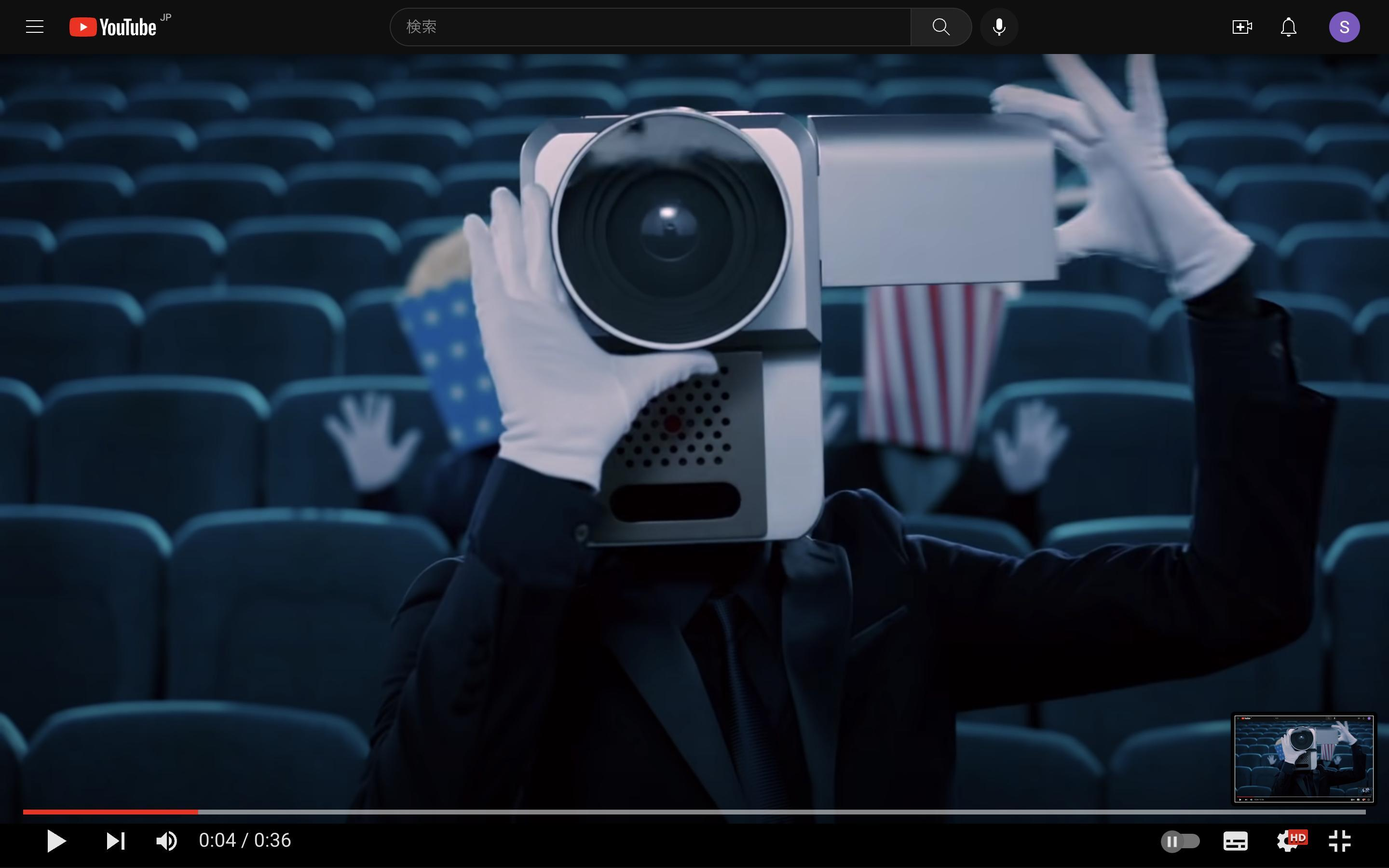no more kid: (517, 108, 1061, 542)
